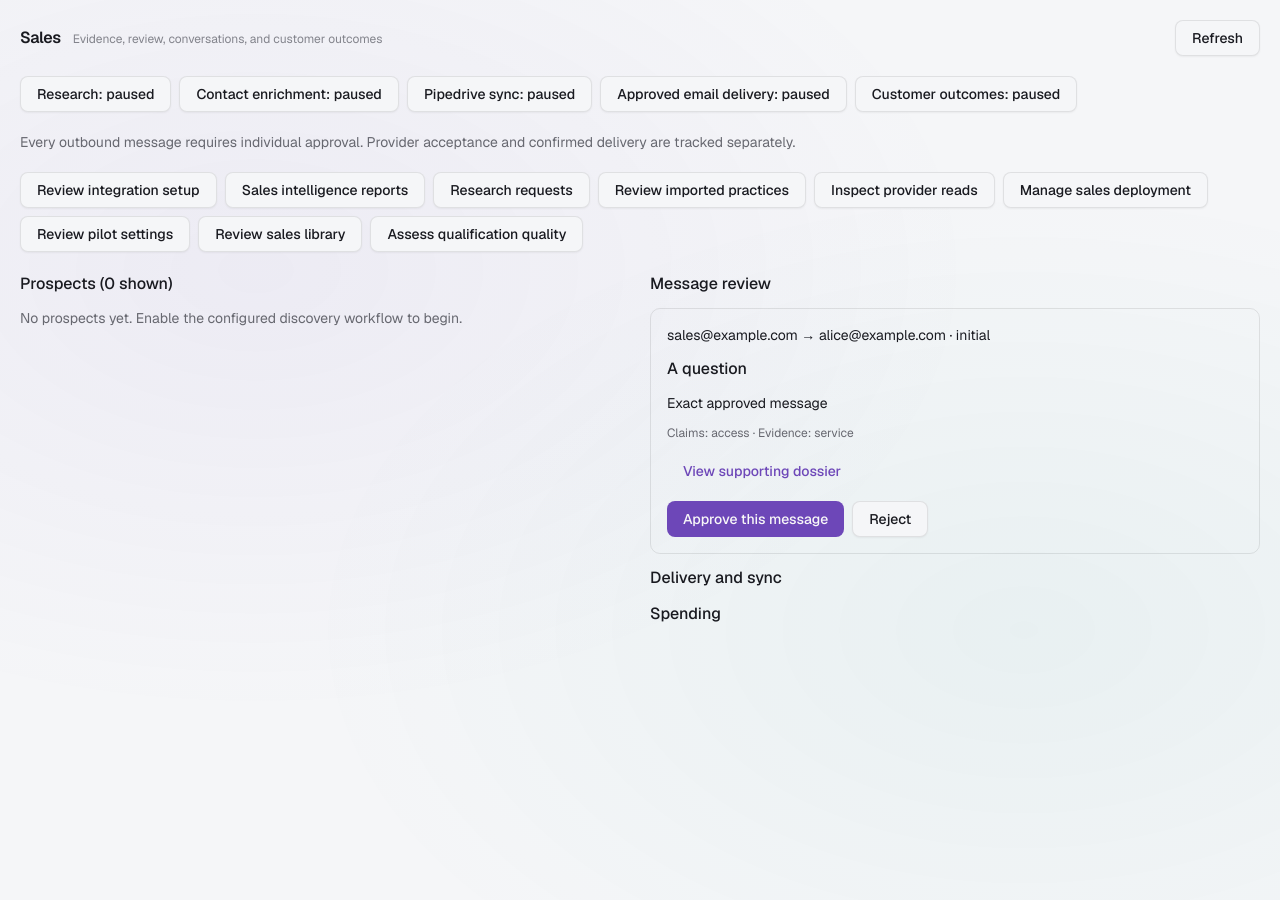
Test: loads the published sales library only when its review panel opens
The width and height of the screenshot is (1280, 900).
Expected: the text "Exact approved message" is shown, 667,394 -> 828,412
Click the button "Review sales library". click: (280, 234)
box: 198,216 -> 362,252
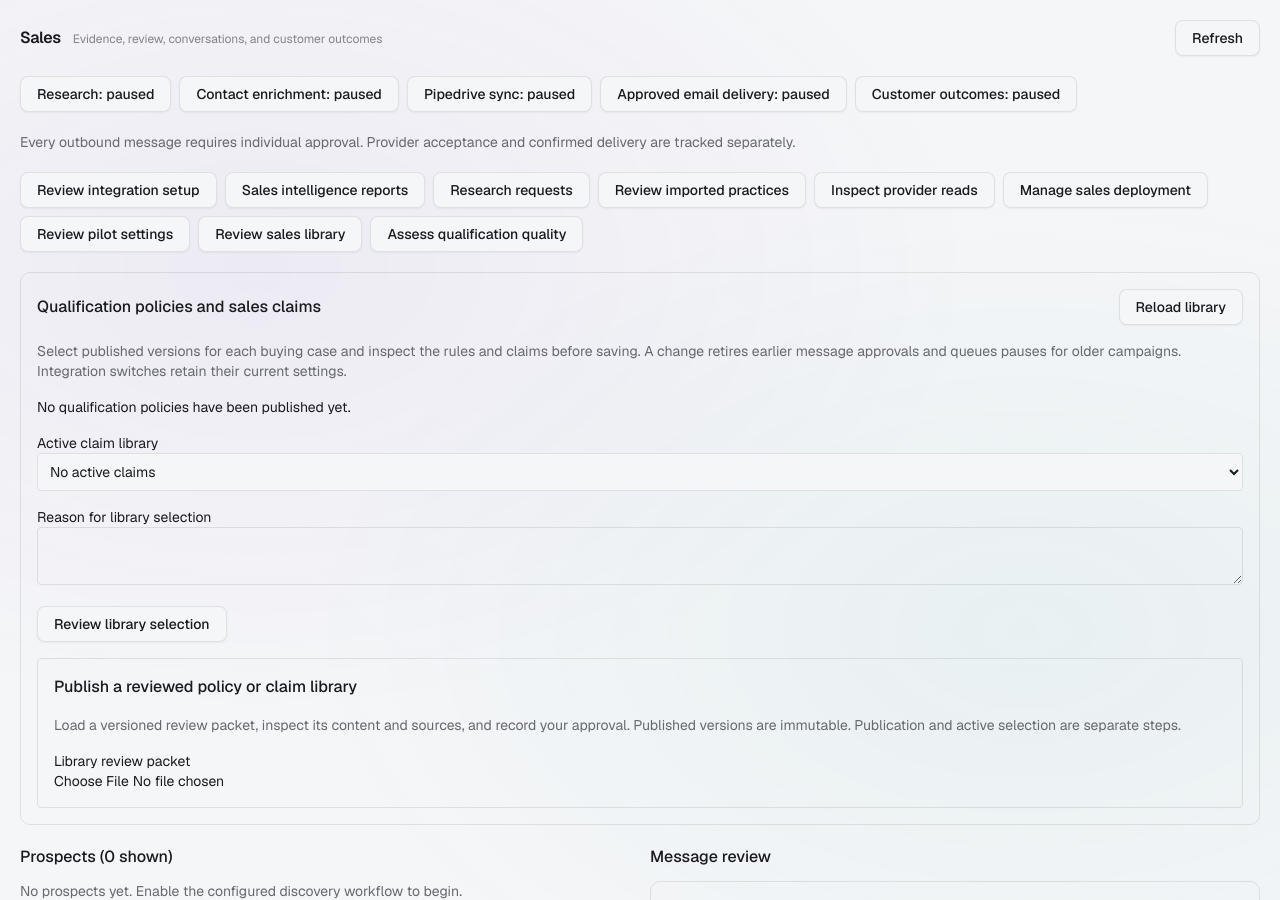
Expected: the text "No qualification policies have been published yet." is shown, 37,398 -> 351,416
